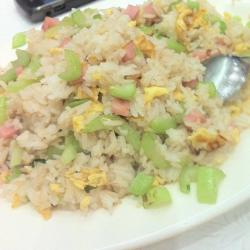rice: (4, 1, 249, 208)
